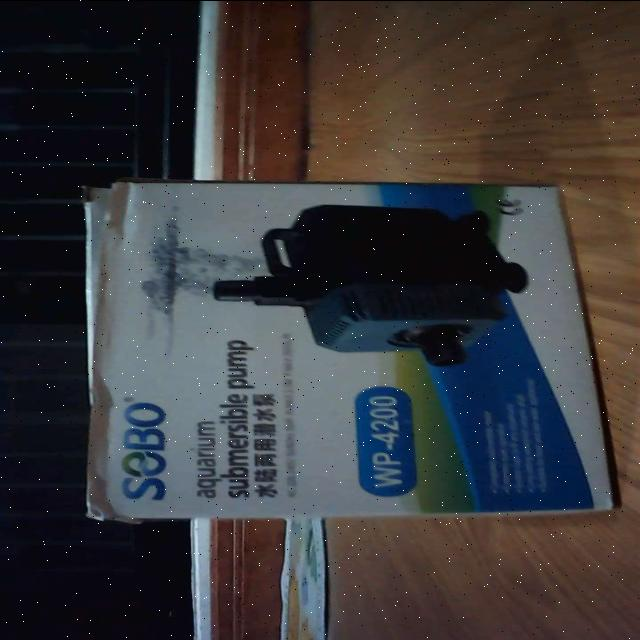SOBO_WP_4200: (56, 163, 624, 529)
